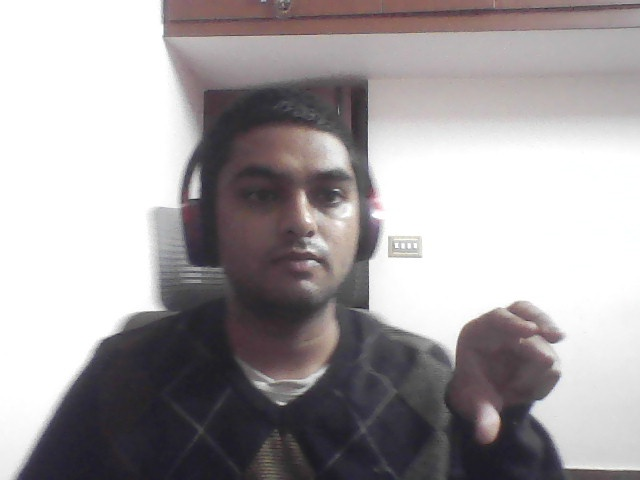No: (418, 281, 590, 457)
